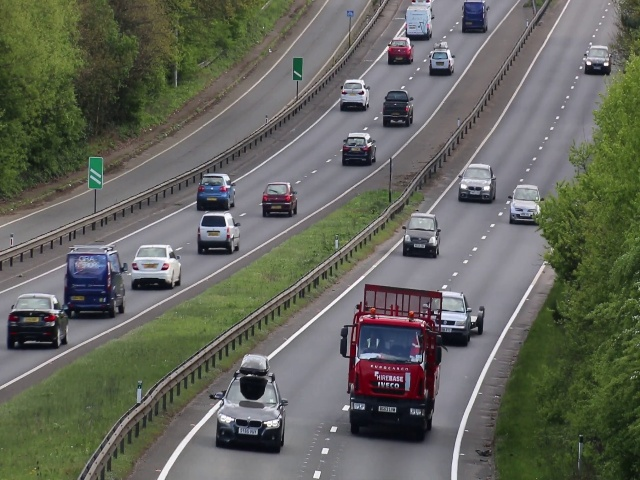car: (349, 318, 434, 441), (214, 376, 285, 452), (62, 244, 126, 316), (7, 292, 69, 350), (131, 244, 184, 290), (401, 212, 442, 260), (458, 162, 498, 207), (198, 212, 236, 254), (196, 171, 235, 208), (508, 182, 540, 227), (443, 292, 471, 341), (381, 90, 415, 129), (340, 133, 377, 167), (261, 181, 298, 215), (402, 4, 434, 41), (339, 77, 371, 112), (459, 1, 489, 34), (385, 36, 414, 68), (585, 44, 611, 76), (428, 50, 455, 78)
